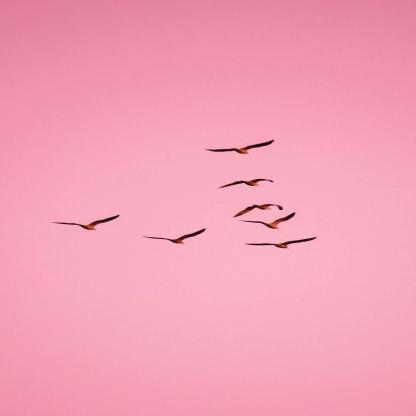bird: (50, 214, 119, 231), (143, 228, 207, 245), (204, 139, 275, 154), (239, 212, 297, 230), (246, 237, 318, 249), (233, 202, 284, 218), (218, 178, 274, 189)
